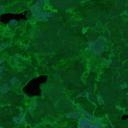alloviz: (21, 74, 49, 97), (1, 9, 29, 25), (119, 113, 128, 121)
